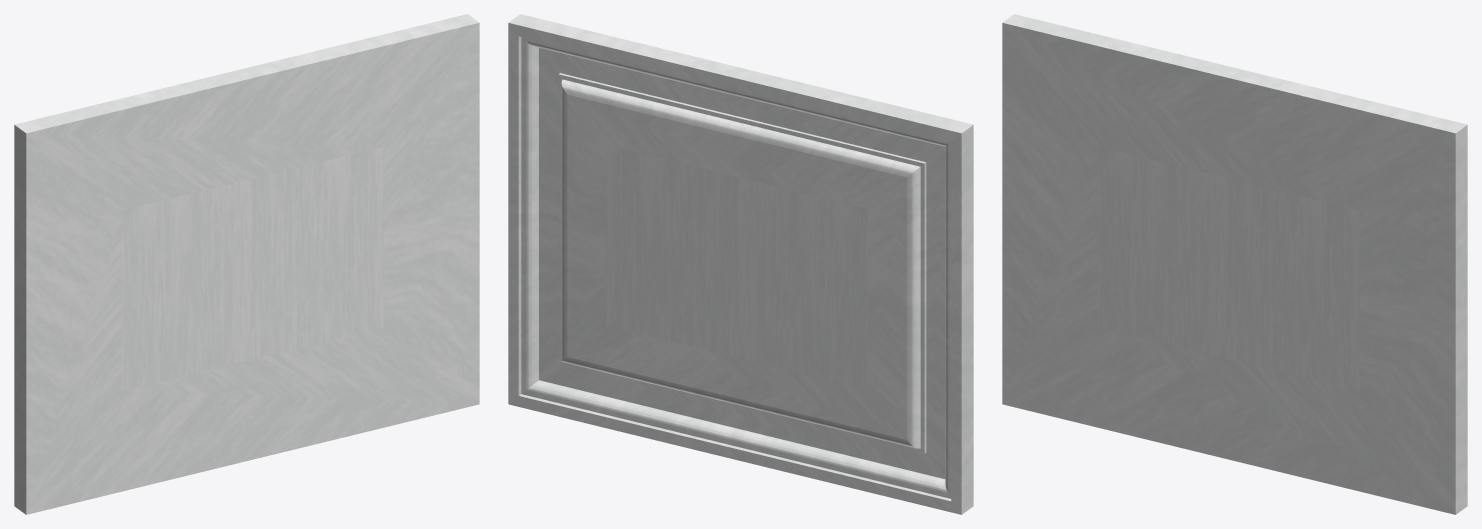
Rendered from wainscoting.FBX.
The picture shows the model from 3 angles, left to right: view 1: azimuth 30°, elevation 25°; view 2: azimuth 150°, elevation 25°; view 3: azimuth 330°, elevation 25°; orthographic projection.
Parts seen in each view (by area): view 1: Rectangle001; view 2: Rectangle001; view 3: Rectangle001.
Part boxes in pixels (bbox=[...]): Rectangle001: bbox=[14, 14, 479, 514]; Rectangle001: bbox=[508, 14, 973, 514]; Rectangle001: bbox=[1002, 14, 1467, 514].
Size of the model in its own units: 105 by 84.4 by 4.8.
Materials: 1 (1 with a texture image).
